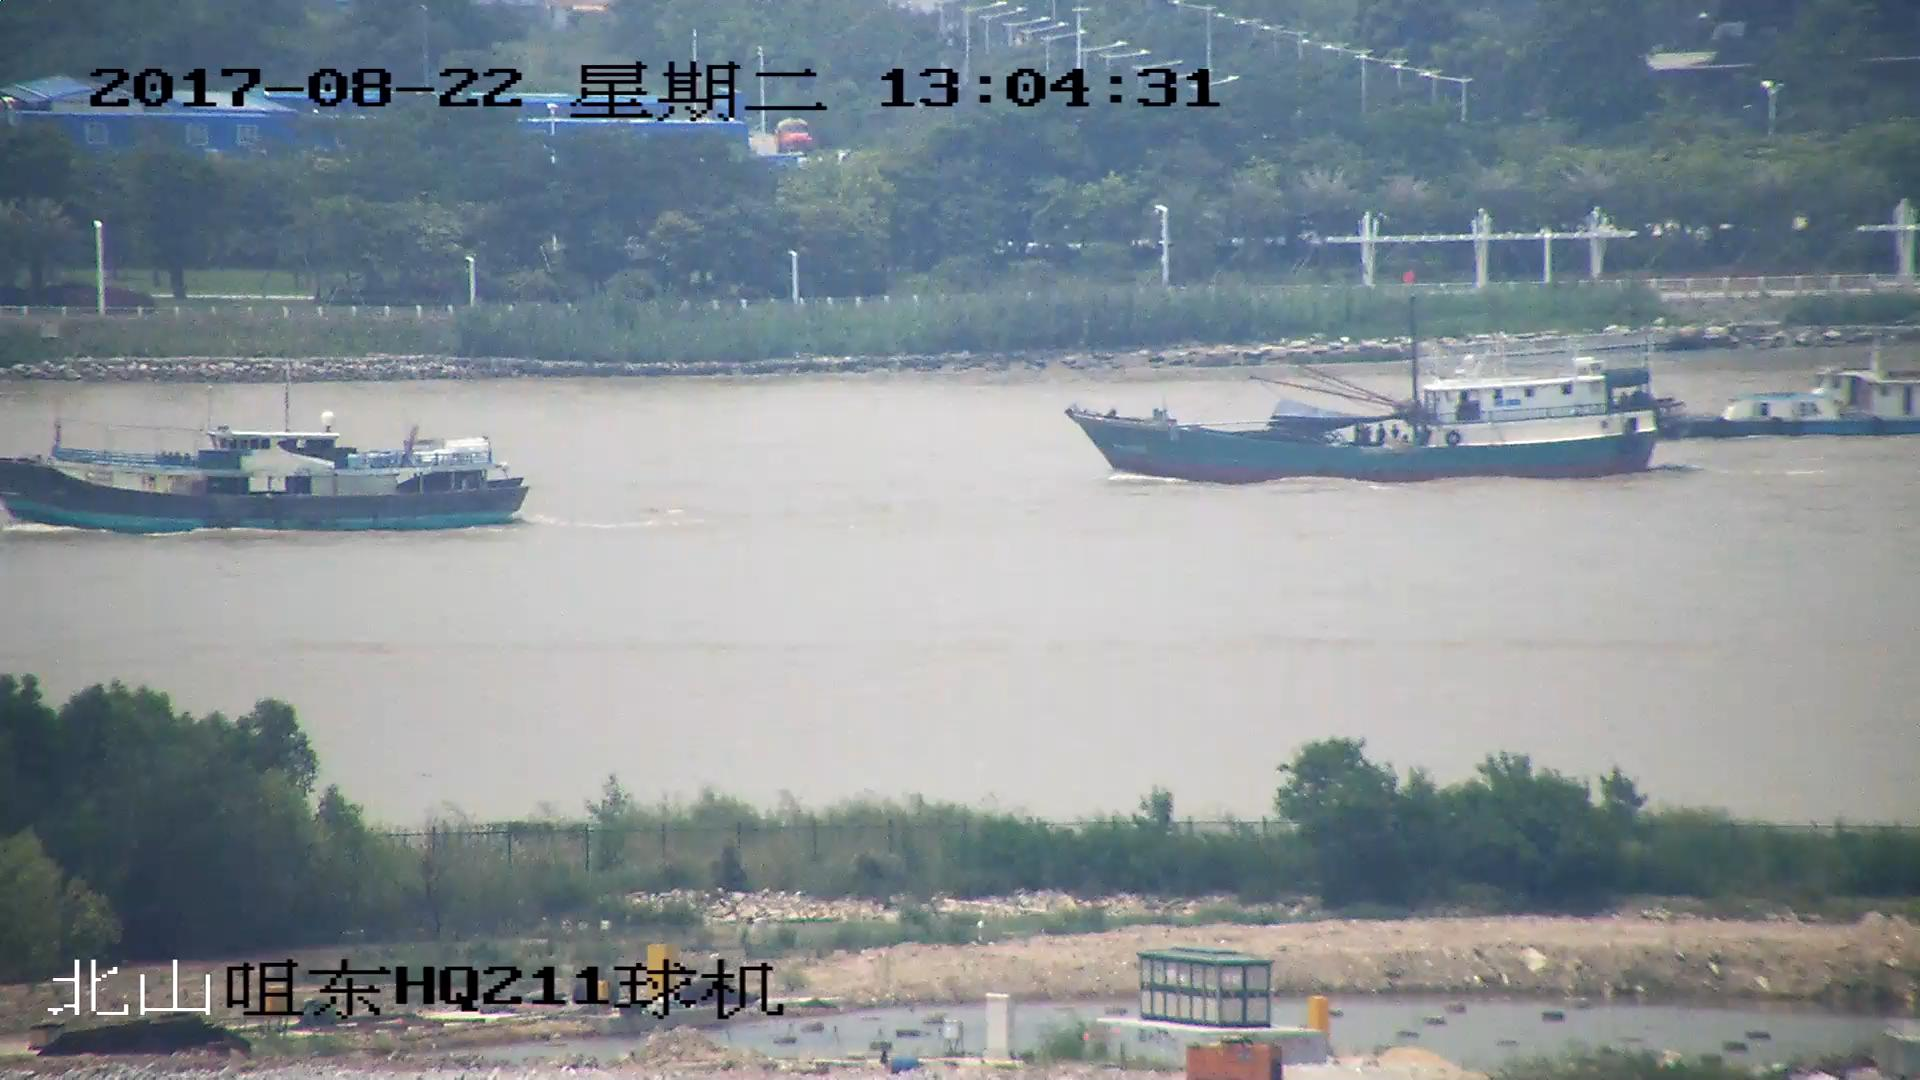fishing boat: (1067, 280, 1670, 474), (1, 408, 538, 525), (1659, 350, 1920, 440)
